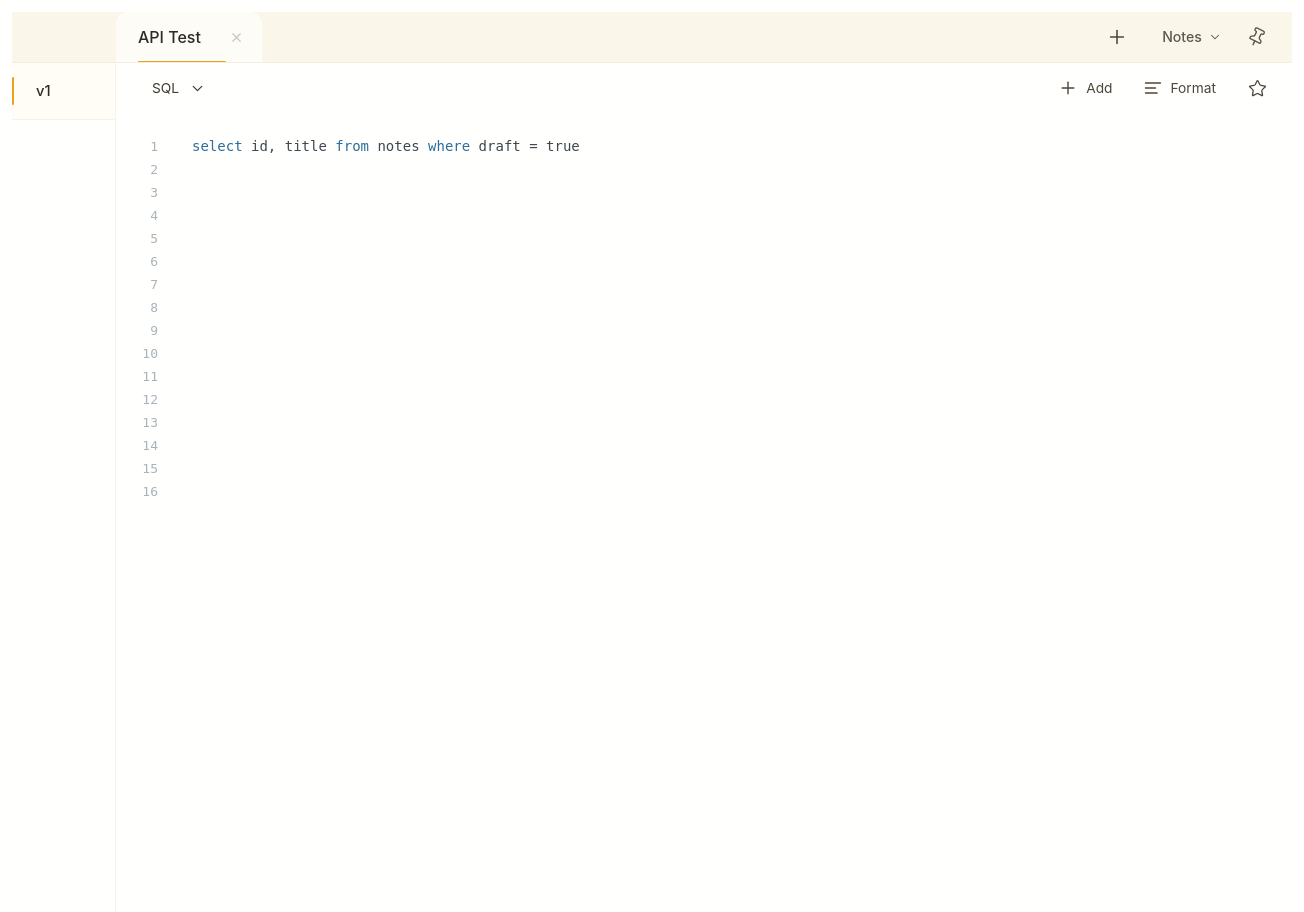
Test: App formatting › formats SQL from the toolbar
Click the button "Format": (1179, 88) [1134, 69, 1224, 107]
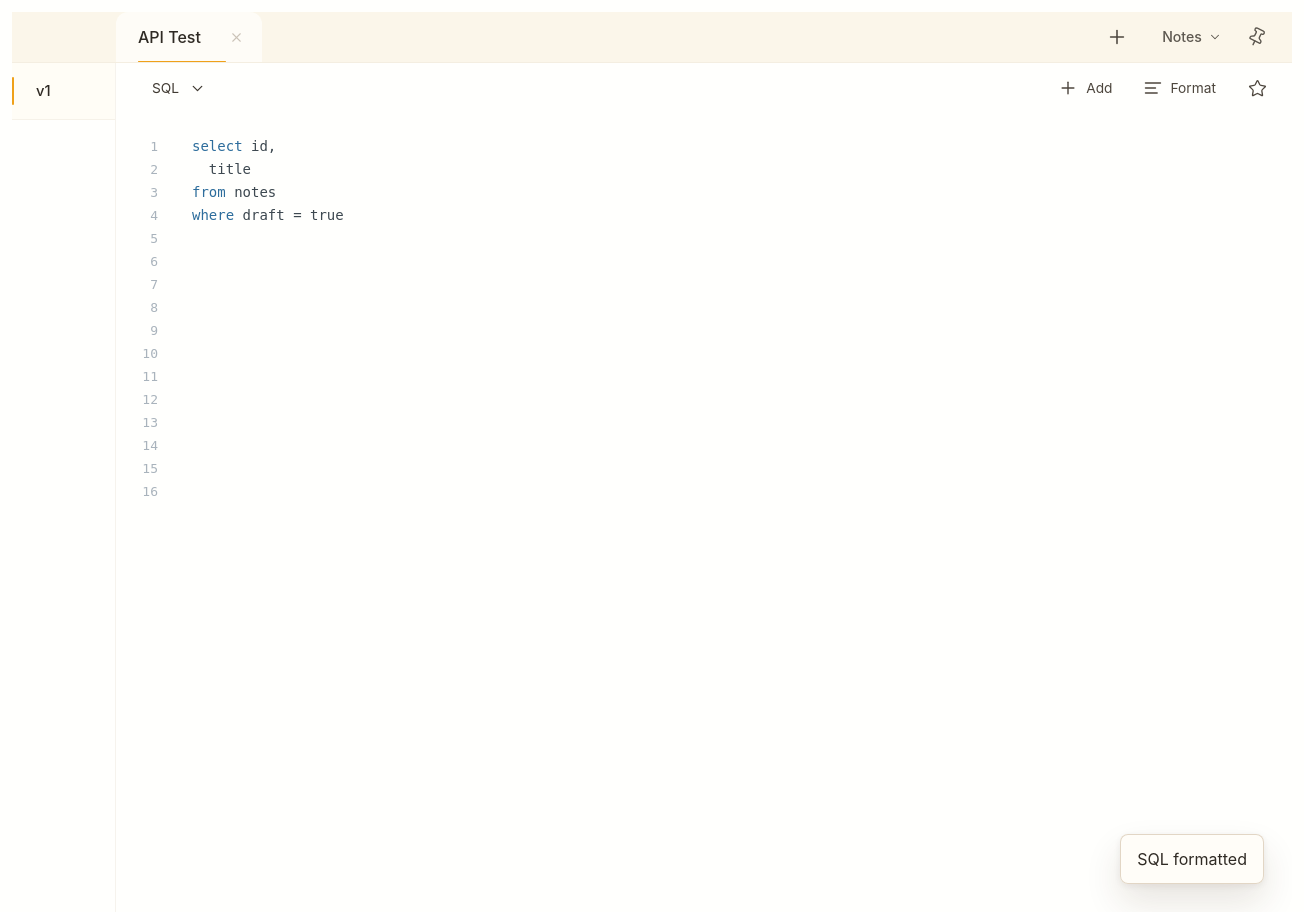
Result: the message reads "SQL formatted" at [1137, 849, 1247, 869]
